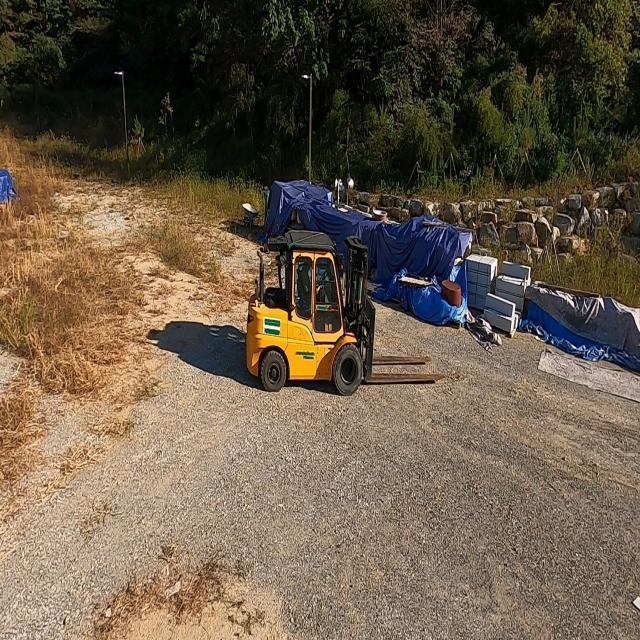forklift: (248, 230, 376, 396)
